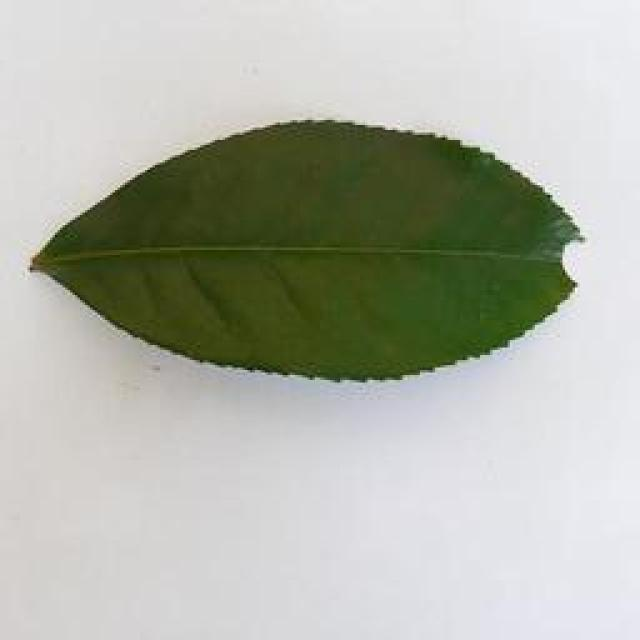Healthy: (31, 105, 608, 402)
